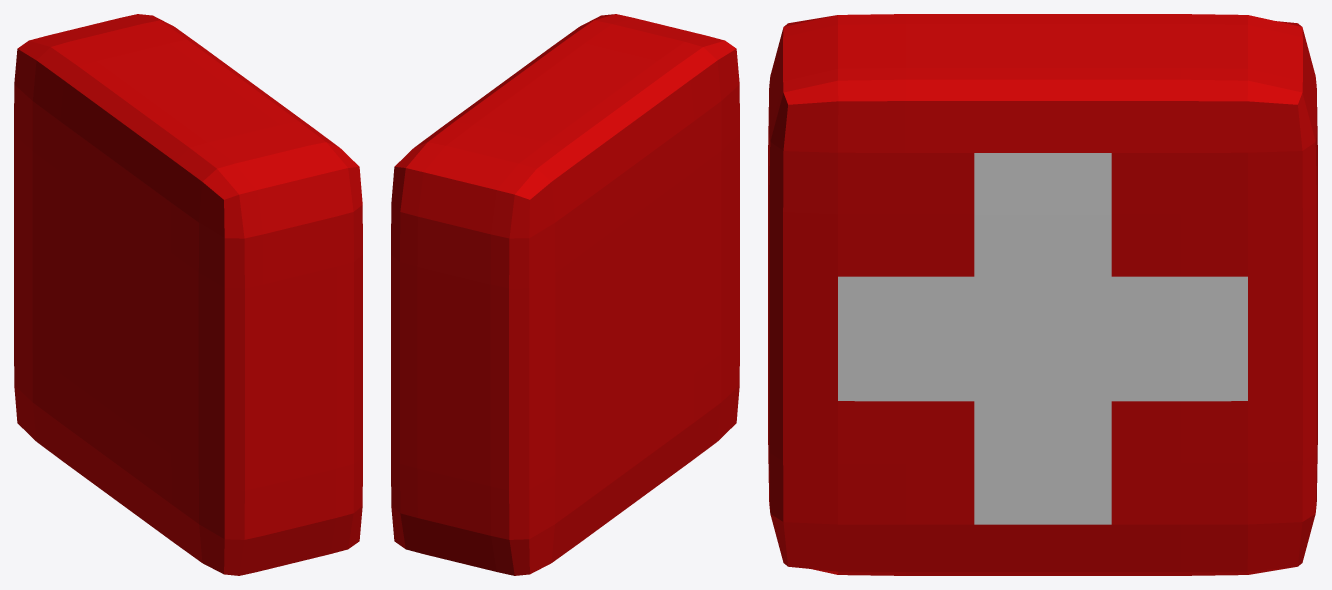
File: HealthPack.fbx
3 renders of one model, left to right at view 1: azimuth 30°, elevation 25°; view 2: azimuth 150°, elevation 25°; view 3: azimuth 270°, elevation 25°, orthographic. The views are drawn at different scales.
Visible parts, largest first — view 1: Cube; view 2: Cube; view 3: Cube.
Part boxes in pixels (x1,y1,x2,y2): Cube: [14, 14, 362, 575]; Cube: [391, 14, 739, 575]; Cube: [768, 14, 1317, 575].
Bounding box in the file's own units: 8.72 × 23.01 × 23.01.
